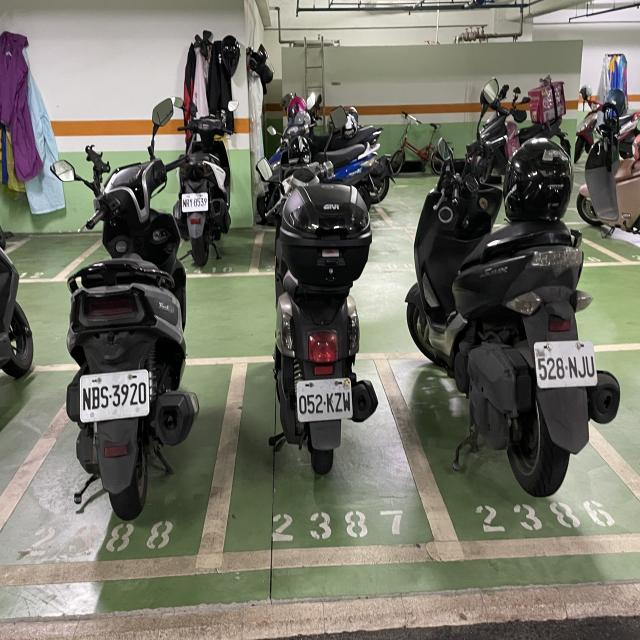license-plate: (81, 369, 150, 422), (534, 340, 597, 389), (297, 377, 353, 422), (182, 192, 208, 212)
